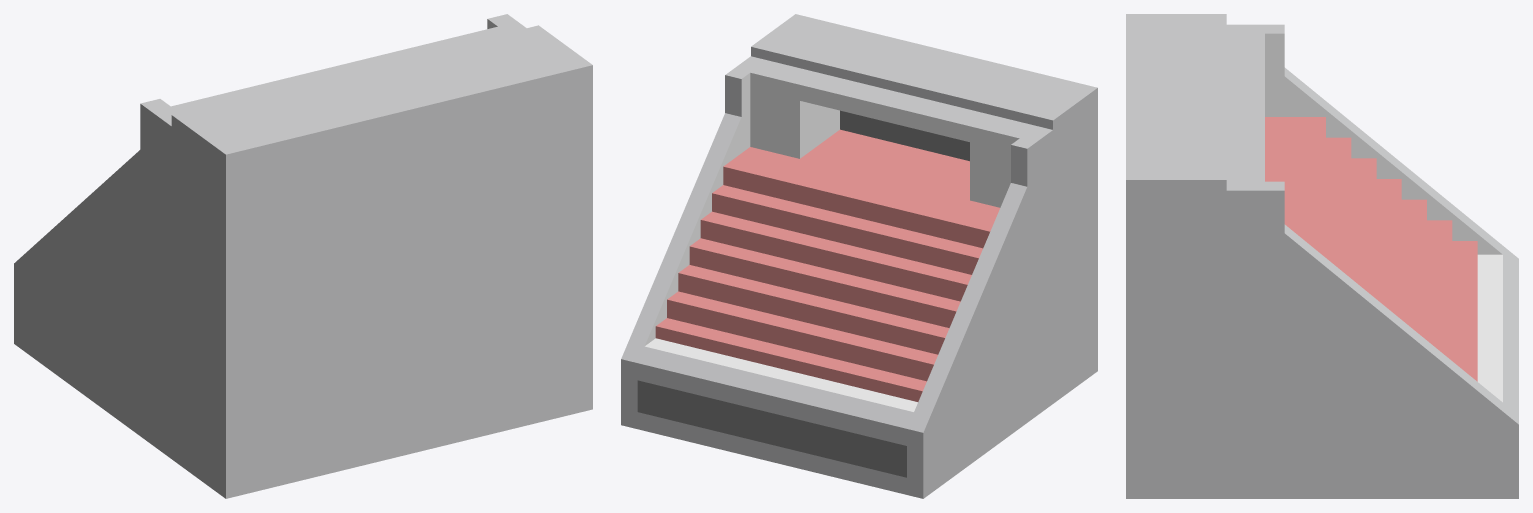
Rendered from grandStand.gltf.
3 renders of one model, left to right at view 1: azimuth 30°, elevation 25°; view 2: azimuth 150°, elevation 25°; view 3: azimuth 270°, elevation 25°, orthographic. The views are drawn at different scales.
Visible parts, largest first — view 1: grandStand; view 2: grandStand; view 3: grandStand.
Boxes of the visible parts, <box> form: grandStand: <box>14,14,592,498</box>; grandStand: <box>621,14,1097,498</box>; grandStand: <box>1126,14,1518,498</box>.
Size of the model in its own units: 10 by 8.96 by 10.
